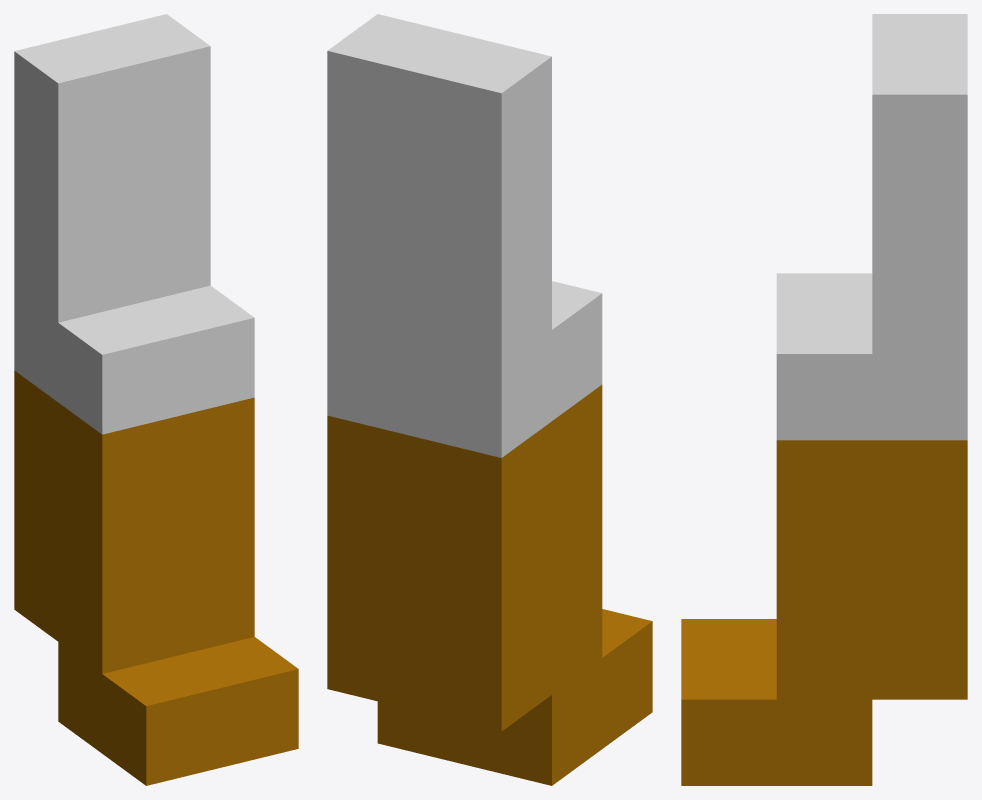
File: cat_tail.fbx
The picture shows the model from 3 angles, left to right: view 1: azimuth 30°, elevation 25°; view 2: azimuth 150°, elevation 25°; view 3: azimuth 270°, elevation 25°; orthographic projection. The views are drawn at different scales.
Parts seen in each view (by area): view 1: cat_tail; view 2: cat_tail; view 3: cat_tail.
Part boxes in pixels (left/top/right/bottom): cat_tail: left=14, top=14, right=298, bottom=785; cat_tail: left=327, top=14, right=652, bottom=785; cat_tail: left=681, top=14, right=967, bottom=785.
Bounding box in the file's own units: 0.2 × 0.8 × 0.3.
